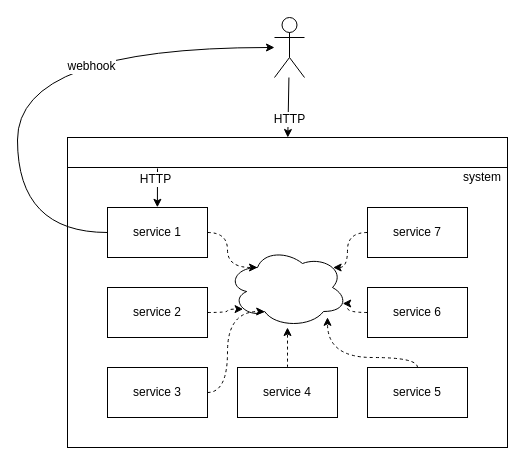
The diagram is 525 pixels wide and 465 high, and some of its shapes have lost their labels. Here are the shapes that lost their labels. From the top down, the box of each, then its label:
(274, 16, 304, 78): external system
(66, 136, 508, 168): API Gateway
(226, 246, 348, 328): message broker
